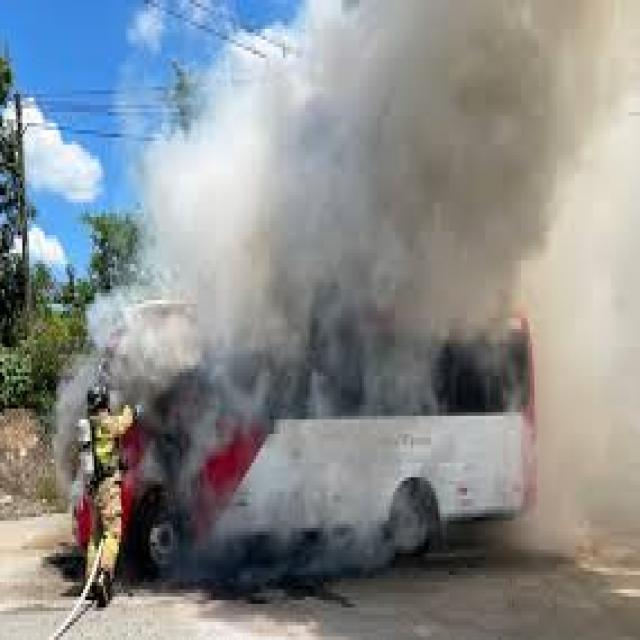smoke: (58, 4, 640, 383), (144, 391, 442, 600), (54, 351, 81, 517)
